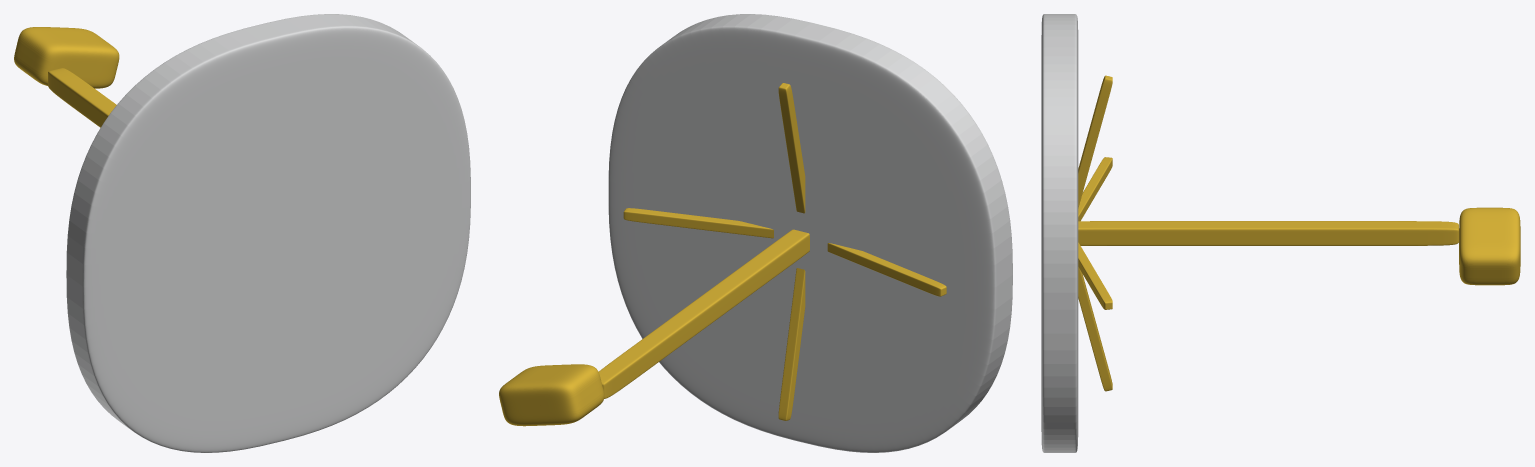
File: umbrella_wrong_canopy_sq.glb
3 views of the same model, side by side, from view 1: azimuth 30°, elevation 25°; view 2: azimuth 150°, elevation 25°; view 3: azimuth 270°, elevation 25° (orthographic). The views are drawn at different scales.
Parts seen in each view (by area): view 1: superquadric_2, superquadric_1, superquadric_0; view 2: superquadric_2, superquadric_0, superquadric_1, superquadric_3, superquadric_6, superquadric_4, superquadric_5; view 3: superquadric_2, superquadric_0, superquadric_1, superquadric_4, superquadric_3, superquadric_6, superquadric_5.
Part boxes in pixels (x1,y1,x2,y2): superquadric_2: (66, 14, 470, 452); superquadric_1: (14, 27, 119, 88); superquadric_0: (48, 68, 116, 127); superquadric_2: (608, 14, 1012, 452); superquadric_0: (599, 229, 809, 398); superquadric_1: (499, 364, 604, 426); superquadric_3: (778, 268, 805, 420); superquadric_6: (623, 208, 773, 238); superquadric_4: (778, 83, 805, 213); superquadric_5: (827, 243, 946, 296); superquadric_2: (1041, 14, 1078, 452); superquadric_0: (1078, 221, 1458, 245); superquadric_1: (1459, 207, 1520, 285); superquadric_4: (1078, 75, 1112, 207); superquadric_3: (1078, 267, 1112, 391); superquadric_6: (1078, 242, 1112, 309); superquadric_5: (1078, 157, 1112, 221).
Bounding box in the file's own units: 0.8716 × 0.8717 × 1.
